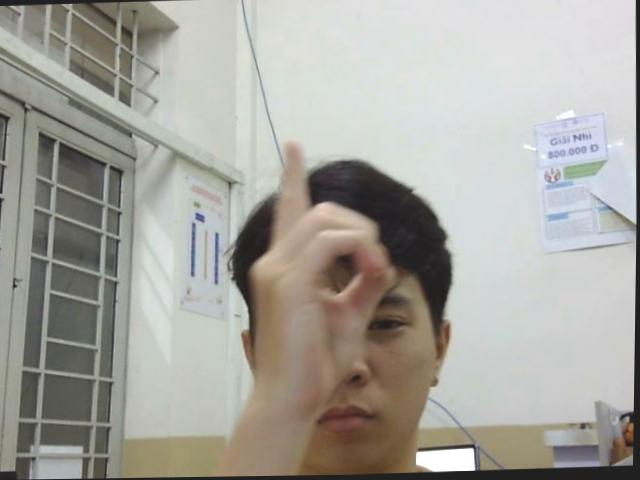D: (241, 139, 397, 413)
